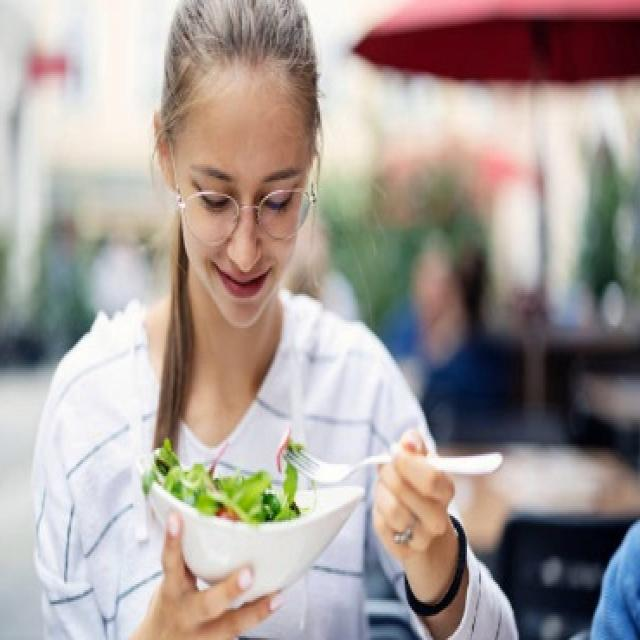child: (28, 0, 476, 633)
